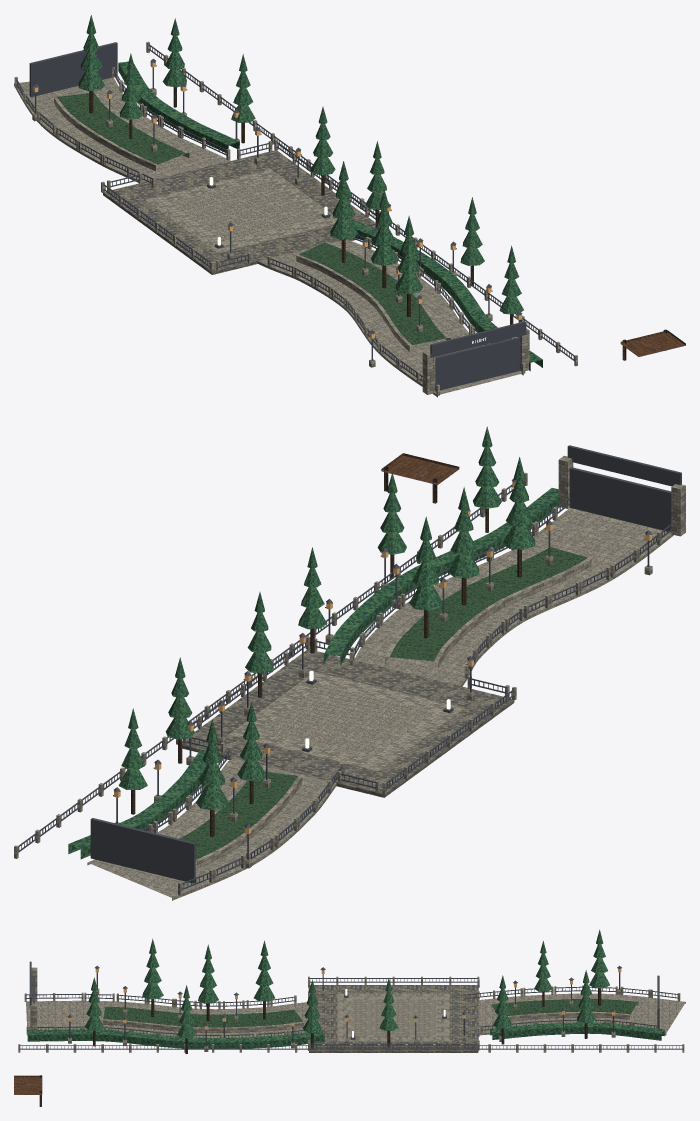
The model's file is MB_Route_B.fbx.
3 renders of one model, top to bottom at view 1: azimuth 30°, elevation 25°; view 2: azimuth 150°, elevation 25°; view 3: azimuth 270°, elevation 25°, orthographic. The views are drawn at different scales.
Parts seen in each view (by area): view 1: Floor_B_Lanes, Floor_B_Quay, QuayInlay, QuayInlayRing, PlanterSoil, MB_Route_B_Dressing_2_0.001, MB_Route_B_Dressing_1_0.001, EntryGate_B, PlanterSoil.001, RearSeal_B, LaneHedge, MB_Route_B_Dressing_4_-1.001 (+15 smaller); view 2: Floor_B_Lanes, Floor_B_Quay, QuayInlay, PlanterSoil, QuayInlayRing, MB_Route_B_Dressing_2_0.001, RearSeal_B, MB_Route_B_Dressing_1_0.001, EntryGate_B, LaneHedge, PlanterSoil.001, MB_Route_B_Dressing_4_-1.001 (+17 smaller); view 3: Floor_B_Lanes, Floor_B_Quay, LaneHedge, QuayInlay, QuayInlayRing, PlanterSoil, MB_Route_B_Dressing_2_0.001, LaneHedge.001, MB_Route_B_Dressing_1_0.001, PlanterSoil.001, PlanterRim, MB_Route_B_Dressing_2_0.002 (+14 smaller).
Part boxes in pixels (box(x1,y1,x2,y2)): Floor_B_Lanes: box(14, 77, 523, 397); Floor_B_Quay: box(103, 150, 375, 274); QuayInlay: box(170, 179, 318, 242); QuayInlayRing: box(145, 169, 337, 252); PlanterSoil: box(299, 242, 447, 345); MB_Route_B_Dressing_2_0.001: box(330, 141, 397, 288); MB_Route_B_Dressing_1_0.001: box(395, 197, 523, 324); EntryGate_B: box(435, 337, 520, 391); PlanterSoil.001: box(57, 92, 186, 164); RearSeal_B: box(29, 42, 117, 97); LaneHedge: box(350, 219, 542, 371); MB_Route_B_Dressing_4_-1.001: box(78, 15, 142, 139); Floor_B_Lanes: box(87, 508, 673, 900); Floor_B_Quay: box(182, 649, 514, 797); QuayInlay: box(258, 684, 434, 758); PlanterSoil: box(390, 547, 587, 661); QuayInlayRing: box(228, 671, 464, 771); MB_Route_B_Dressing_2_0.001: box(298, 487, 479, 653); RearSeal_B: box(90, 818, 195, 883); MB_Route_B_Dressing_1_0.001: box(377, 426, 535, 578); EntryGate_B: box(569, 467, 671, 532); LaneHedge: box(323, 488, 559, 665); PlanterSoil.001: box(179, 771, 297, 859); MB_Route_B_Dressing_4_-1.001: box(196, 702, 265, 836); Floor_B_Lanes: box(26, 993, 685, 1037); Floor_B_Quay: box(309, 985, 478, 1052); LaneHedge: box(27, 1029, 324, 1048); QuayInlay: box(351, 999, 435, 1035); QuayInlayRing: box(337, 993, 450, 1041); PlanterSoil: box(103, 1006, 302, 1027); MB_Route_B_Dressing_2_0.001: box(198, 940, 321, 1048); LaneHedge.001: box(490, 1022, 664, 1040); MB_Route_B_Dressing_1_0.001: box(84, 938, 195, 1053); PlanterSoil.001: box(491, 999, 637, 1015); PlanterRim: box(103, 1005, 303, 1032); MB_Route_B_Dressing_2_0.002: box(184, 1030, 380, 1052).
Bounding box in the file's own units: 3616 × 1548 × 9520.
12 materials, 8 textured.
